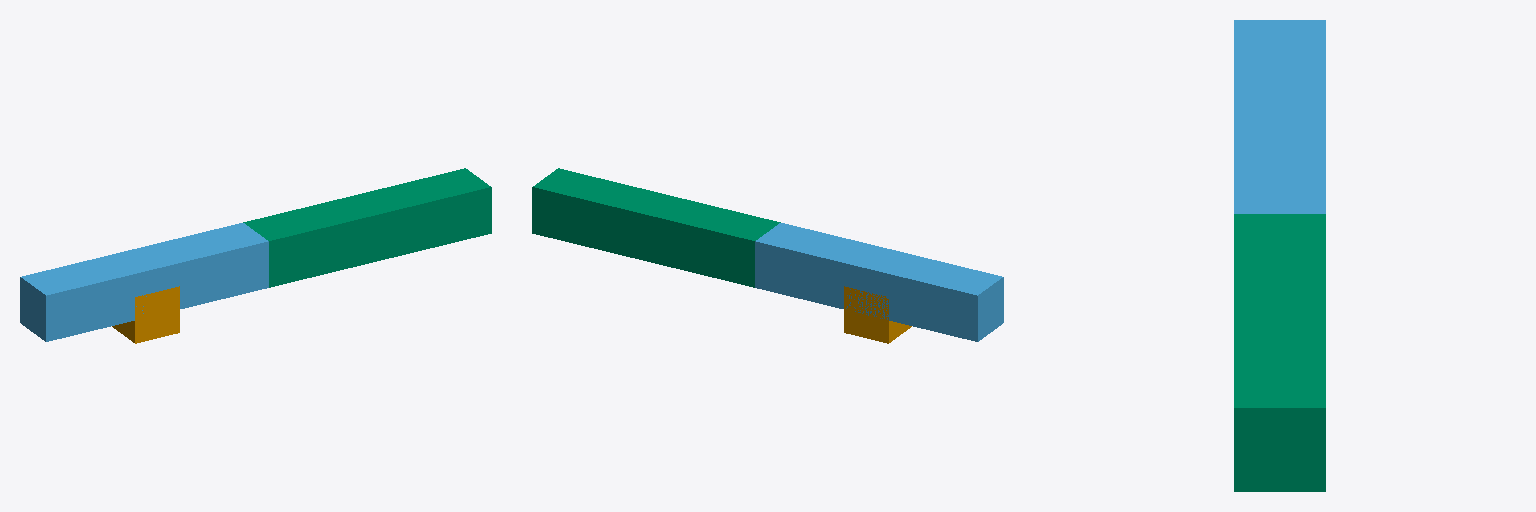
robot.urdf — simple_arm:
<?xml version="1.0"?>
<robot name="simple_arm">
	<link name="base_link">
		<visual>
			<geometry>
				<box size="0.1 0.1 0.1"/>
			</geometry>
		</visual>
	</link>

	<link name="link_1">
		<visual>
			<geometry>
				<box size="0.5 0.1 0.1"/>
			</geometry>
		</visual>
	</link>

	<link name="link_2">
		<visual>
			<geometry>
				<box size="0.5 0.1 0.1"/>
			</geometry>
		</visual>
	</link>

	<joint name="joint_1" type="revolute">
		<parent link="base_link"/>
		<child link="link_1"/>
		<origin xyz="0 0 0.05" rpy="0 0 0"/>
		<axis xyz="0 0 1"/>
		<limit lower="-3.14" upper="3.14" effort="10" velocity="1.0"/>
	</joint>

	<joint name="joint_2" type="revolute">
		<parent link="link_1"/>
		<child link="link_2"/>
		<origin xyz="0.5 0 0" rpy="0 0 0"/>
		<axis xyz="0 1 0"/>
		<limit lower="-3.14" upper="3.14" effort="10" velocity="1.0"/>
	</joint>
</robot>

--- Facts derived from the render (not from the file) ---
3 views of the same robot in one strip: view 1: azimuth 30°, elevation 25°; view 2: azimuth 150°, elevation 25°; view 3: azimuth 270°, elevation 25° (orthographic).
Model simple_arm with 3 links and 2 joints (2 revolute), rooted at base_link, posed all joints at 0.
Visible links, largest first — view 1: link_1, link_2, base_link; view 2: link_1, link_2, base_link; view 3: link_2, link_1.
Link boxes in pixels (left/top/right/bottom): link_1: left=20, top=223, right=268, bottom=341; link_2: left=243, top=168, right=491, bottom=287; base_link: left=112, top=286, right=179, bottom=343; link_1: left=755, top=223, right=1003, bottom=341; link_2: left=532, top=168, right=780, bottom=287; base_link: left=844, top=286, right=911, bottom=343; link_2: left=1234, top=214, right=1325, bottom=491; link_1: left=1234, top=20, right=1325, bottom=213.
Size in the robot's own frame: 1 by 0.1 by 0.15 metres.
Geometry: primitives only (box / cylinder / sphere), no mesh files.